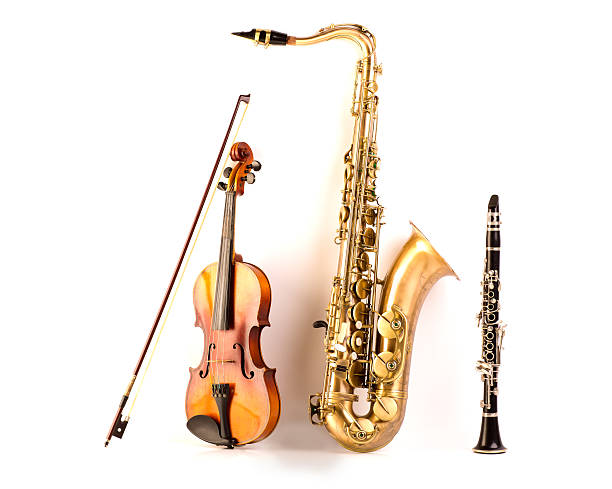Saxophone: (216, 12, 452, 472)
Violin: (85, 75, 306, 463)
